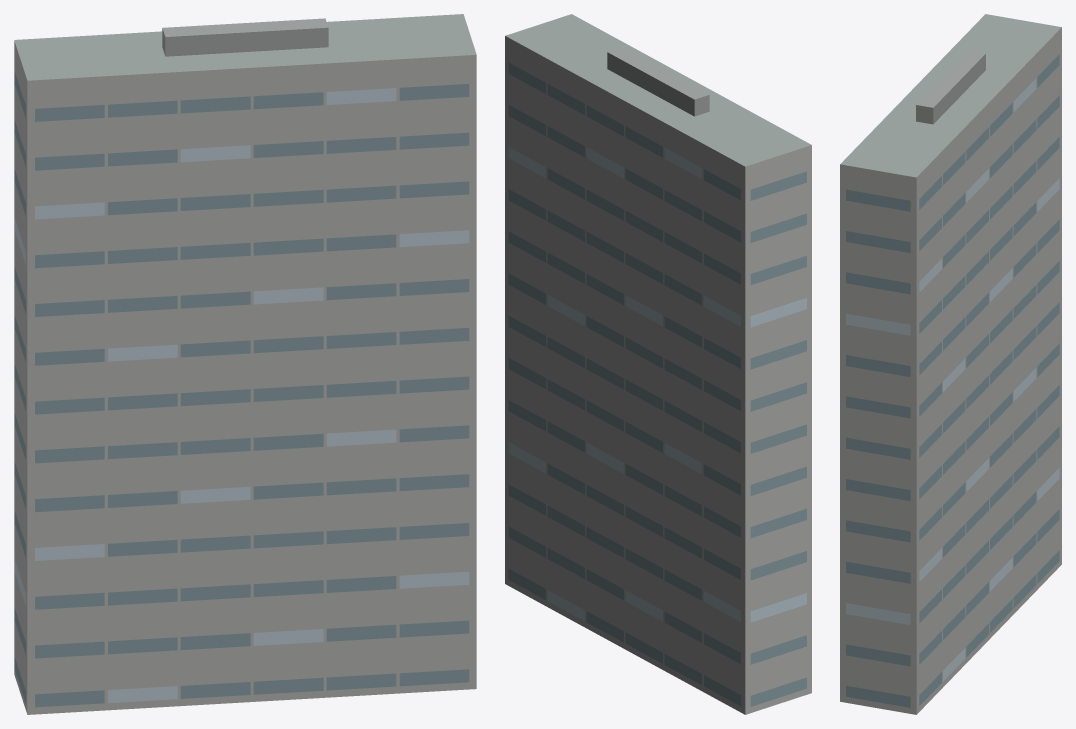
Rendered from fallback-jamsil-ricenz-231.glb.
3 views of the same model, side by side, from view 1: azimuth 30°, elevation 25°; view 2: azimuth 150°, elevation 25°; view 3: azimuth 270°, elevation 25° (orthographic). The views are drawn at different scales.
Visible parts, largest first — view 1: fallback-jamsil-ricenz-231; view 2: fallback-jamsil-ricenz-231; view 3: fallback-jamsil-ricenz-231.
Boxes of the visible parts, box(x1,y1,x2,y2) form: fallback-jamsil-ricenz-231: box(14, 14, 476, 714); fallback-jamsil-ricenz-231: box(505, 14, 811, 714); fallback-jamsil-ricenz-231: box(840, 14, 1061, 714).
Bounding box in the file's own units: 50.64 × 80 × 29.02.
